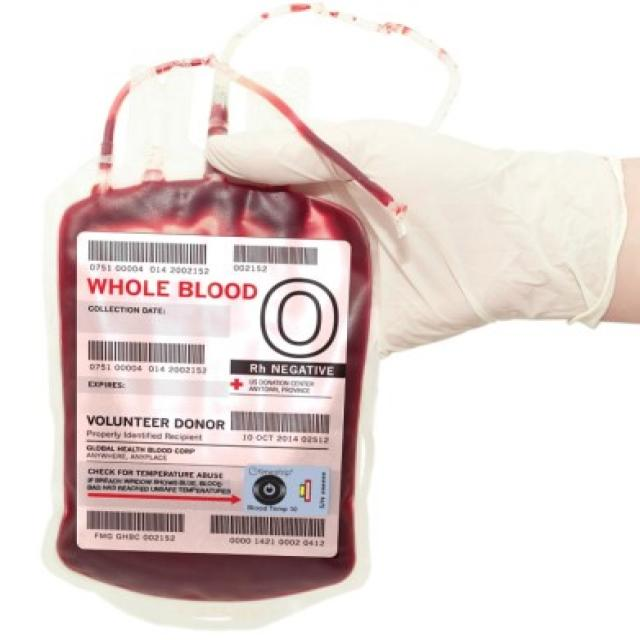B3: (42, 124, 394, 629)
